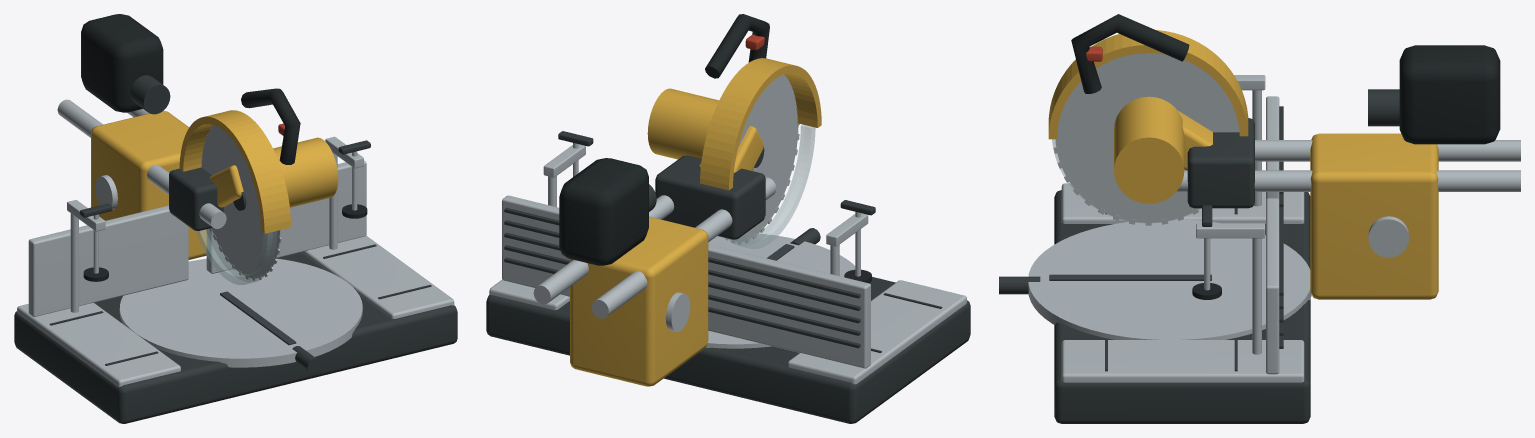
File: garage-miter-saw.glb
The picture shows the model from 3 angles, left to right: view 1: azimuth 30°, elevation 25°; view 2: azimuth 150°, elevation 25°; view 3: azimuth 270°, elevation 25°; orthographic projection. The views are drawn at different scales.
Parts seen in each view (by area): view 1: garage-miter-saw authored assembly; view 2: garage-miter-saw authored assembly; view 3: garage-miter-saw authored assembly.
Boxes of the visible parts, x1,y1,x2,y2 form: garage-miter-saw authored assembly: (14,14,457,423); garage-miter-saw authored assembly: (486,14,970,423); garage-miter-saw authored assembly: (999,14,1520,423).
Size of the model in its own units: 0.75 by 0.58 by 0.85.
